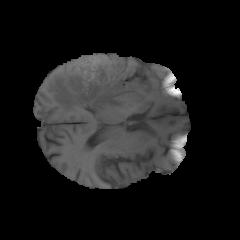glioma: (52, 53, 139, 111)
